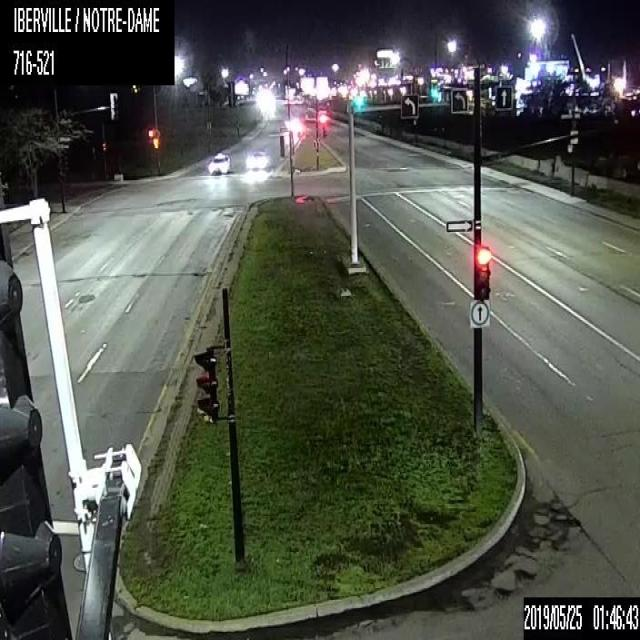vehicle: (206, 150, 232, 175), (247, 150, 269, 170)
